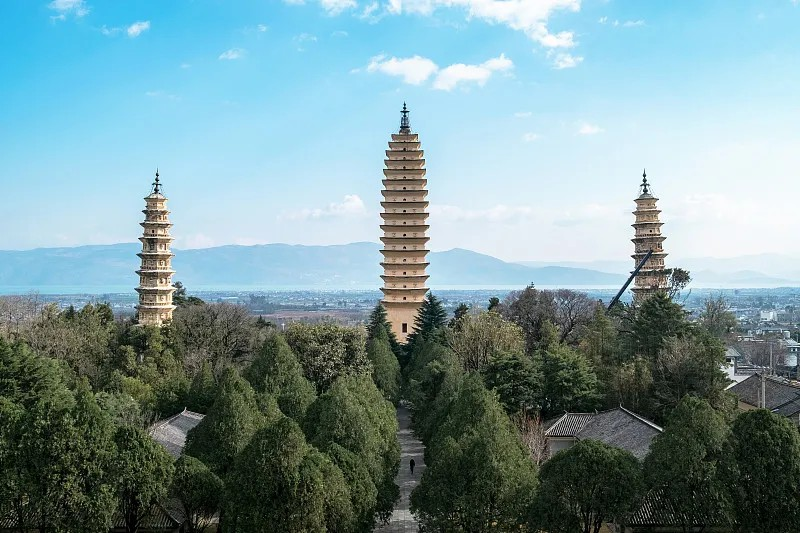ThreePagoda: (380, 102, 431, 343)
